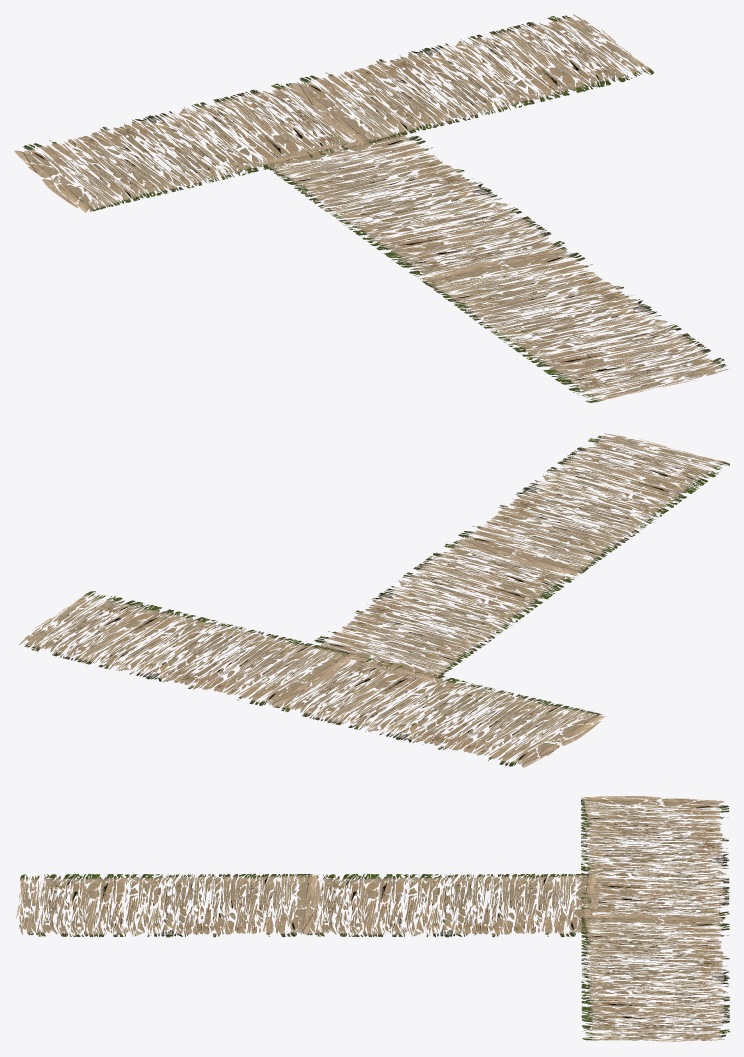
Rendered from tent2.glb.
The picture shows the model from 3 angles, top to bottom: view 1: azimuth 30°, elevation 25°; view 2: azimuth 150°, elevation 25°; view 3: azimuth 270°, elevation 25°; orthographic projection. The views are drawn at different scales.
Parts seen in each view (by area): view 1: Object_8.001, Object_8.003; view 2: Object_8.001, Object_8.003; view 3: Object_8.003, Object_8.001.
Boxes of the visible parts, x1,y1,x2,y2 form: Object_8.001: (260,132,727,402); Object_8.003: (14,14,654,212); Object_8.001: (312,433,729,681); Object_8.003: (19,591,605,767); Object_8.003: (581,796,729,1042); Object_8.001: (16,873,598,937).
Size of the model in its own units: 39.44 by 0.0779 by 48.28.
4 materials, 4 textured.
